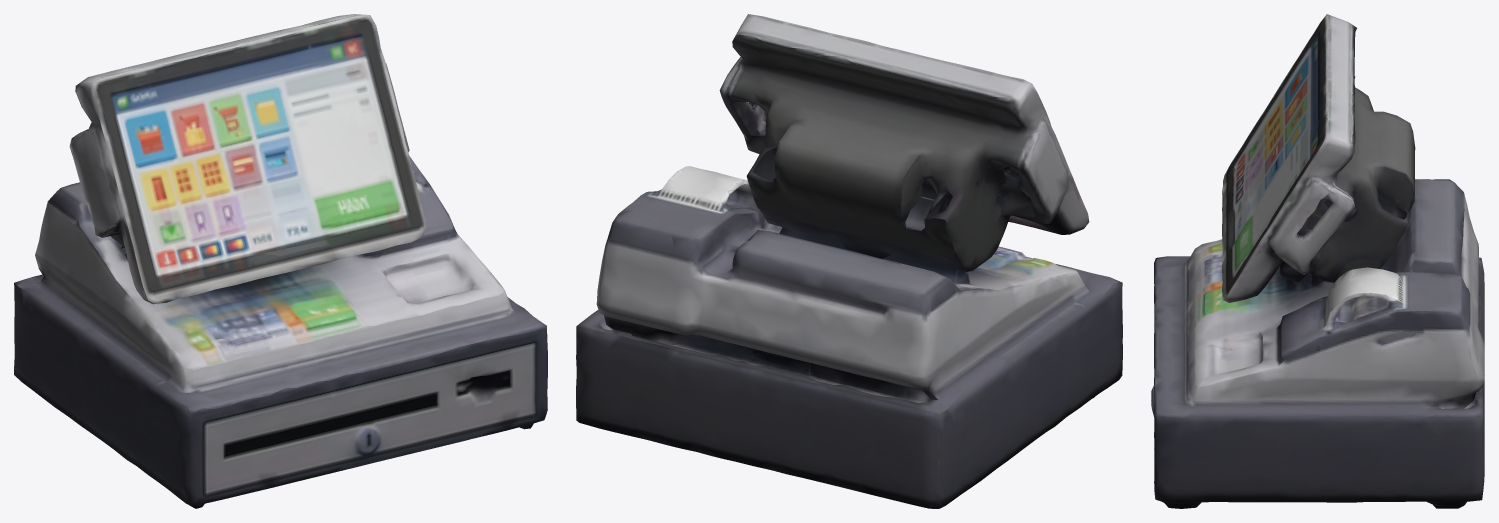
The model's file is cash_register.glb.
The picture shows the model from 3 angles, left to right: view 1: azimuth 30°, elevation 25°; view 2: azimuth 150°, elevation 25°; view 3: azimuth 270°, elevation 25°; orthographic projection. The views are drawn at different scales.
Parts seen in each view (by area): view 1: CashRegister; view 2: CashRegister; view 3: CashRegister.
Part boxes in pixels (x1,y1,x2,y2): CashRegister: [14, 14, 547, 508]; CashRegister: [576, 14, 1122, 508]; CashRegister: [1151, 14, 1484, 508].
Bounding box in the file's own units: 0.35 × 0.3316 × 0.295.
1 material, 1 textured.
